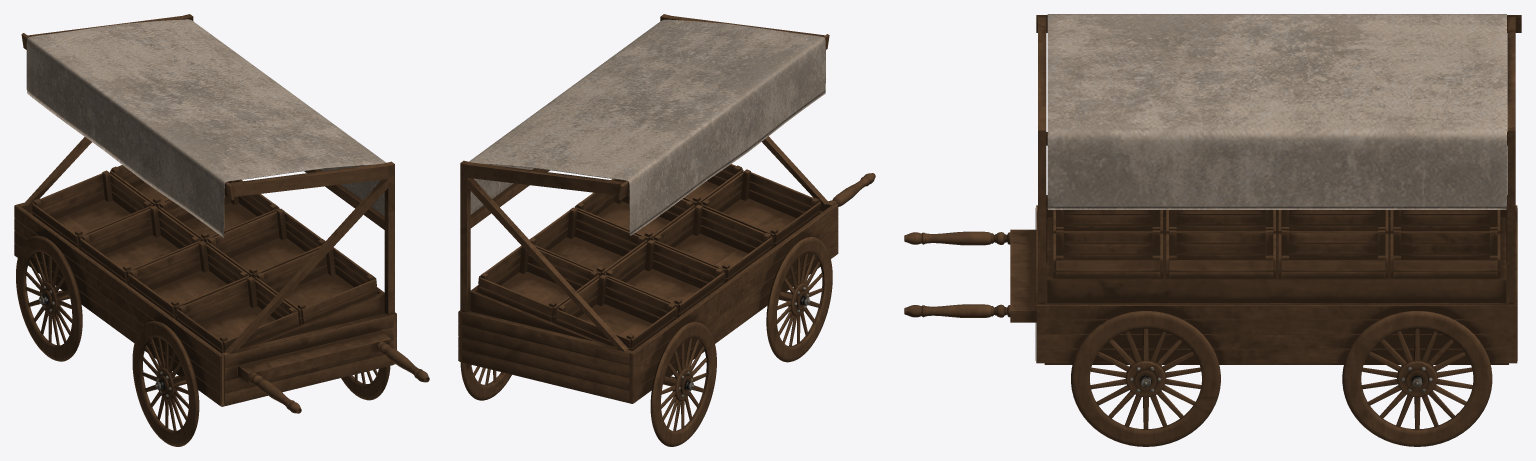
File: Cart.fbx
The picture shows the model from 3 angles, left to right: view 1: azimuth 30°, elevation 25°; view 2: azimuth 150°, elevation 25°; view 3: azimuth 270°, elevation 25°; orthographic projection. The views are drawn at different scales.
Parts seen in each view (by area): view 1: FruitCart; view 2: FruitCart; view 3: FruitCart.
Boxes of the visible parts, x1=… form: FruitCart: x1=14, y1=14, x2=429, y2=446; FruitCart: x1=458, y1=14, x2=875, y2=446; FruitCart: x1=904, y1=14, x2=1521, y2=446.
Size of the model in its own units: 99.95 by 130 by 217.
Materials: 1 (1 with a texture image).
